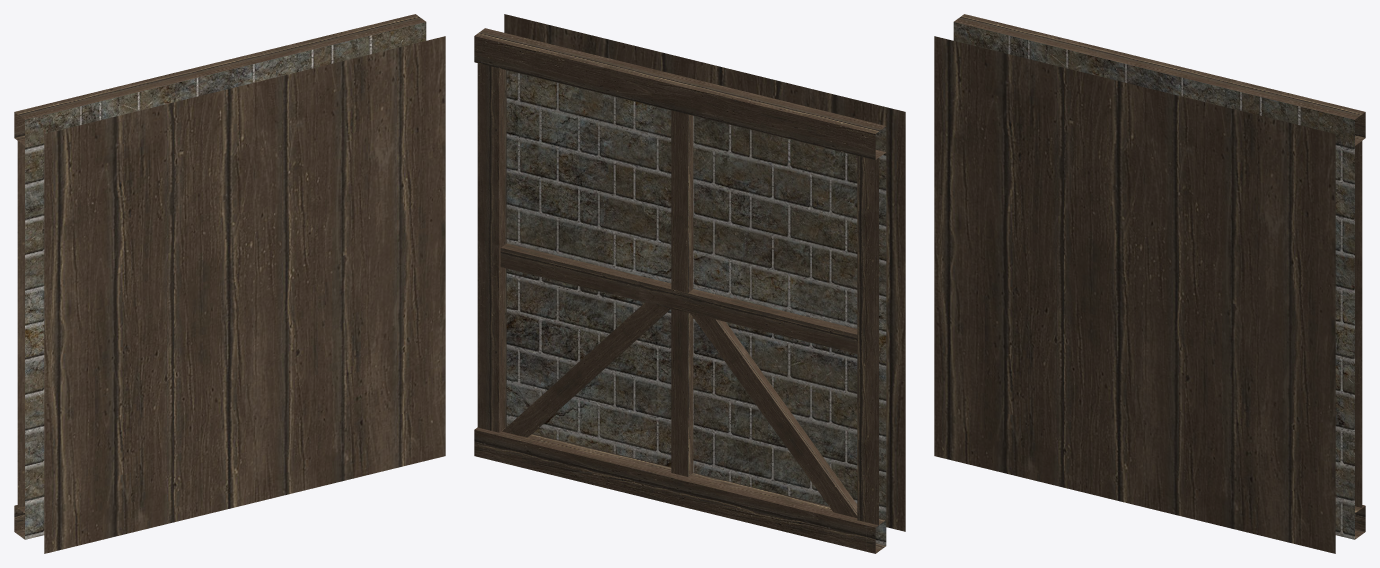
The model's file is ARC1010224.fbx.
The picture shows the model from 3 angles, left to right: view 1: azimuth 30°, elevation 25°; view 2: azimuth 150°, elevation 25°; view 3: azimuth 330°, elevation 25°; orthographic projection.
Visible parts, largest first — view 1: smARC1010224; view 2: smARC1010224; view 3: smARC1010224.
Boxes of the visible parts, x1,y1,x2,y2 form: smARC1010224: (14,14,445,553); smARC1010224: (474,14,905,553); smARC1010224: (934,14,1365,553).
Bounding box in the file's own units: 268 × 268 × 34.9.
1 material, 1 textured.
